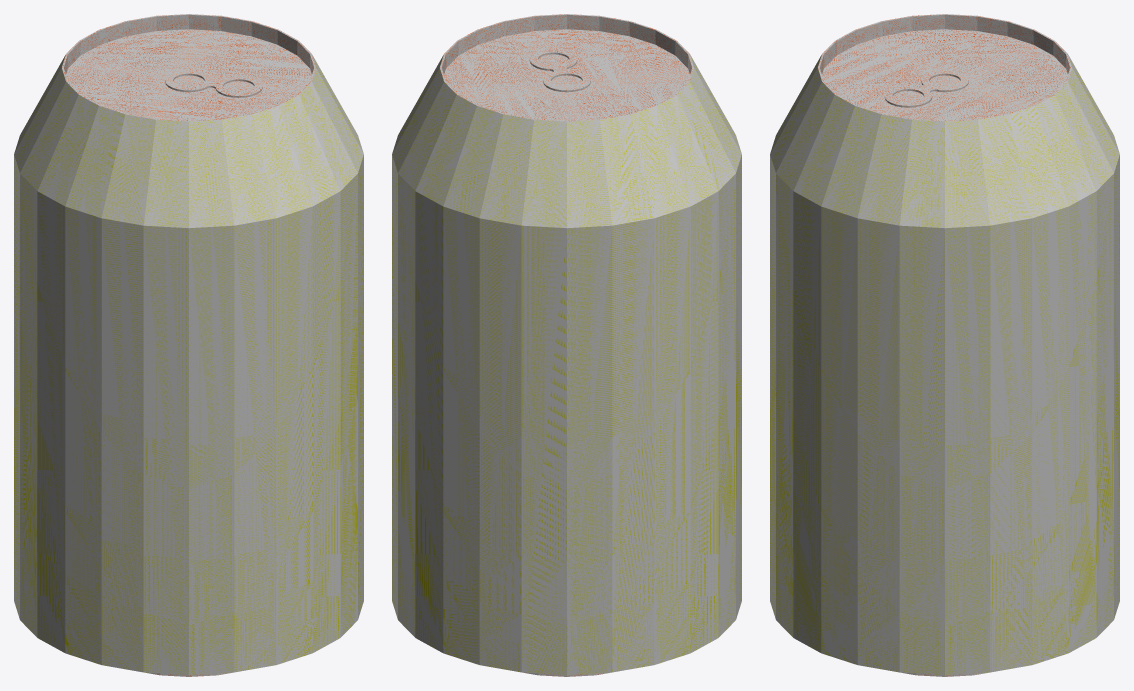
3 renders of one model, left to right at view 1: azimuth 30°, elevation 25°; view 2: azimuth 150°, elevation 25°; view 3: azimuth 270°, elevation 25°, orthographic.
Visible parts, largest first — view 1: mesh1_mesh1-geometry; view 2: mesh1_mesh1-geometry; view 3: mesh1_mesh1-geometry.
Boxes of the visible parts, left/top/right/bottom form: mesh1_mesh1-geometry: left=14, top=14, right=363, bottom=676; mesh1_mesh1-geometry: left=392, top=14, right=741, bottom=676; mesh1_mesh1-geometry: left=770, top=14, right=1119, bottom=676.
Bounding box in the file's own units: 0.441 × 0.7817 × 0.441.
